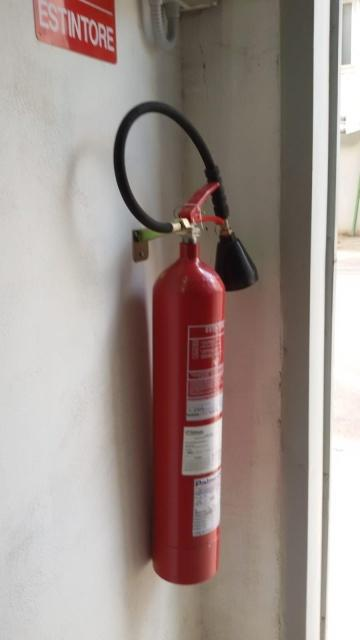APAR: (150, 179, 226, 586)
